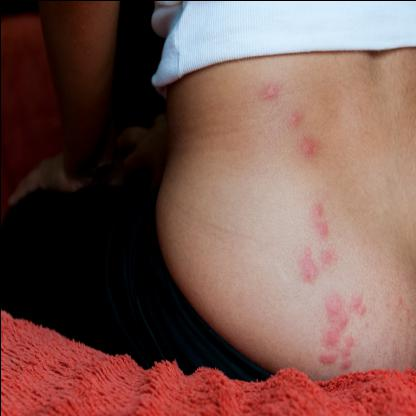Bed Bug: (312, 291, 370, 369), (290, 244, 340, 280), (256, 78, 284, 106), (294, 130, 320, 160), (308, 200, 328, 238), (284, 108, 304, 126)
